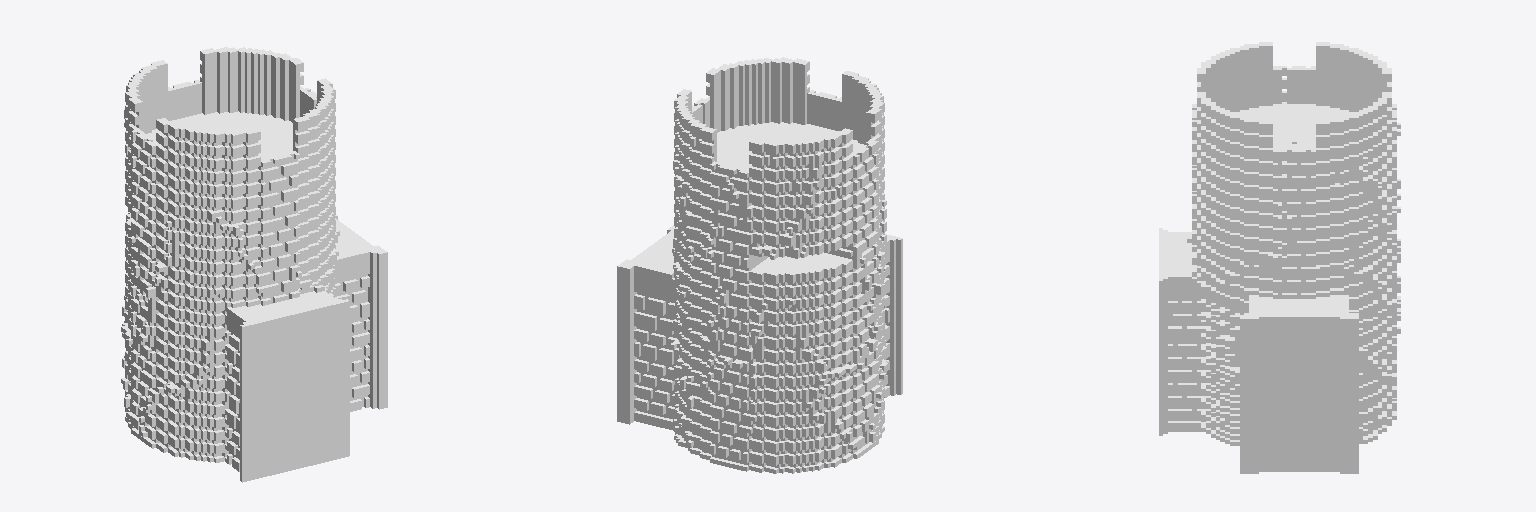
The model's file is CasleWall2.obj.
3 renders of one model, left to right at view 1: azimuth 30°, elevation 25°; view 2: azimuth 150°, elevation 25°; view 3: azimuth 270°, elevation 25°, orthographic.
Size of the model in its own units: 54 by 76 by 51.